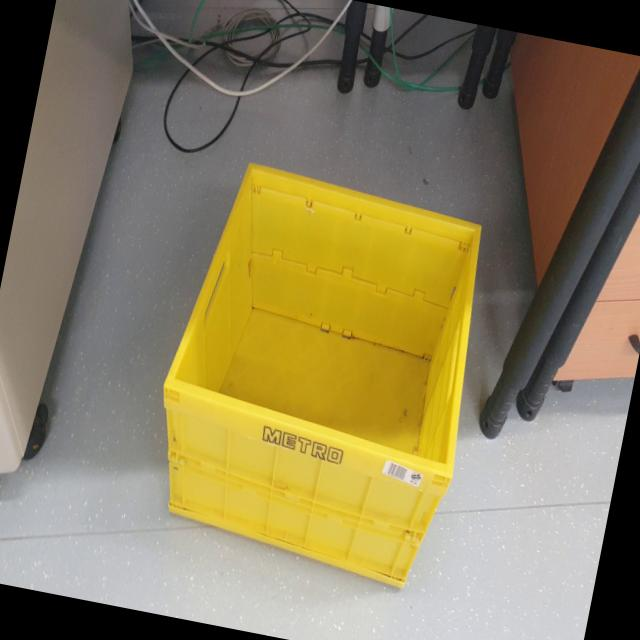box: (131, 138, 510, 611)
